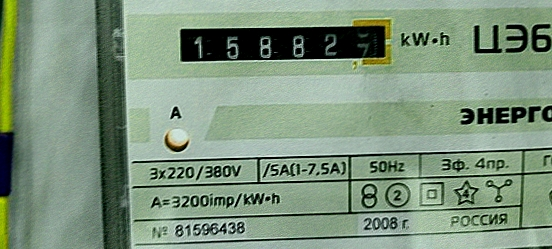1: (191, 32, 205, 60)
2: (322, 30, 338, 58)
5: (223, 33, 241, 60)
7: (354, 40, 370, 57)
8: (256, 33, 272, 61), (290, 32, 305, 60)
screen: (166, 11, 401, 74)
